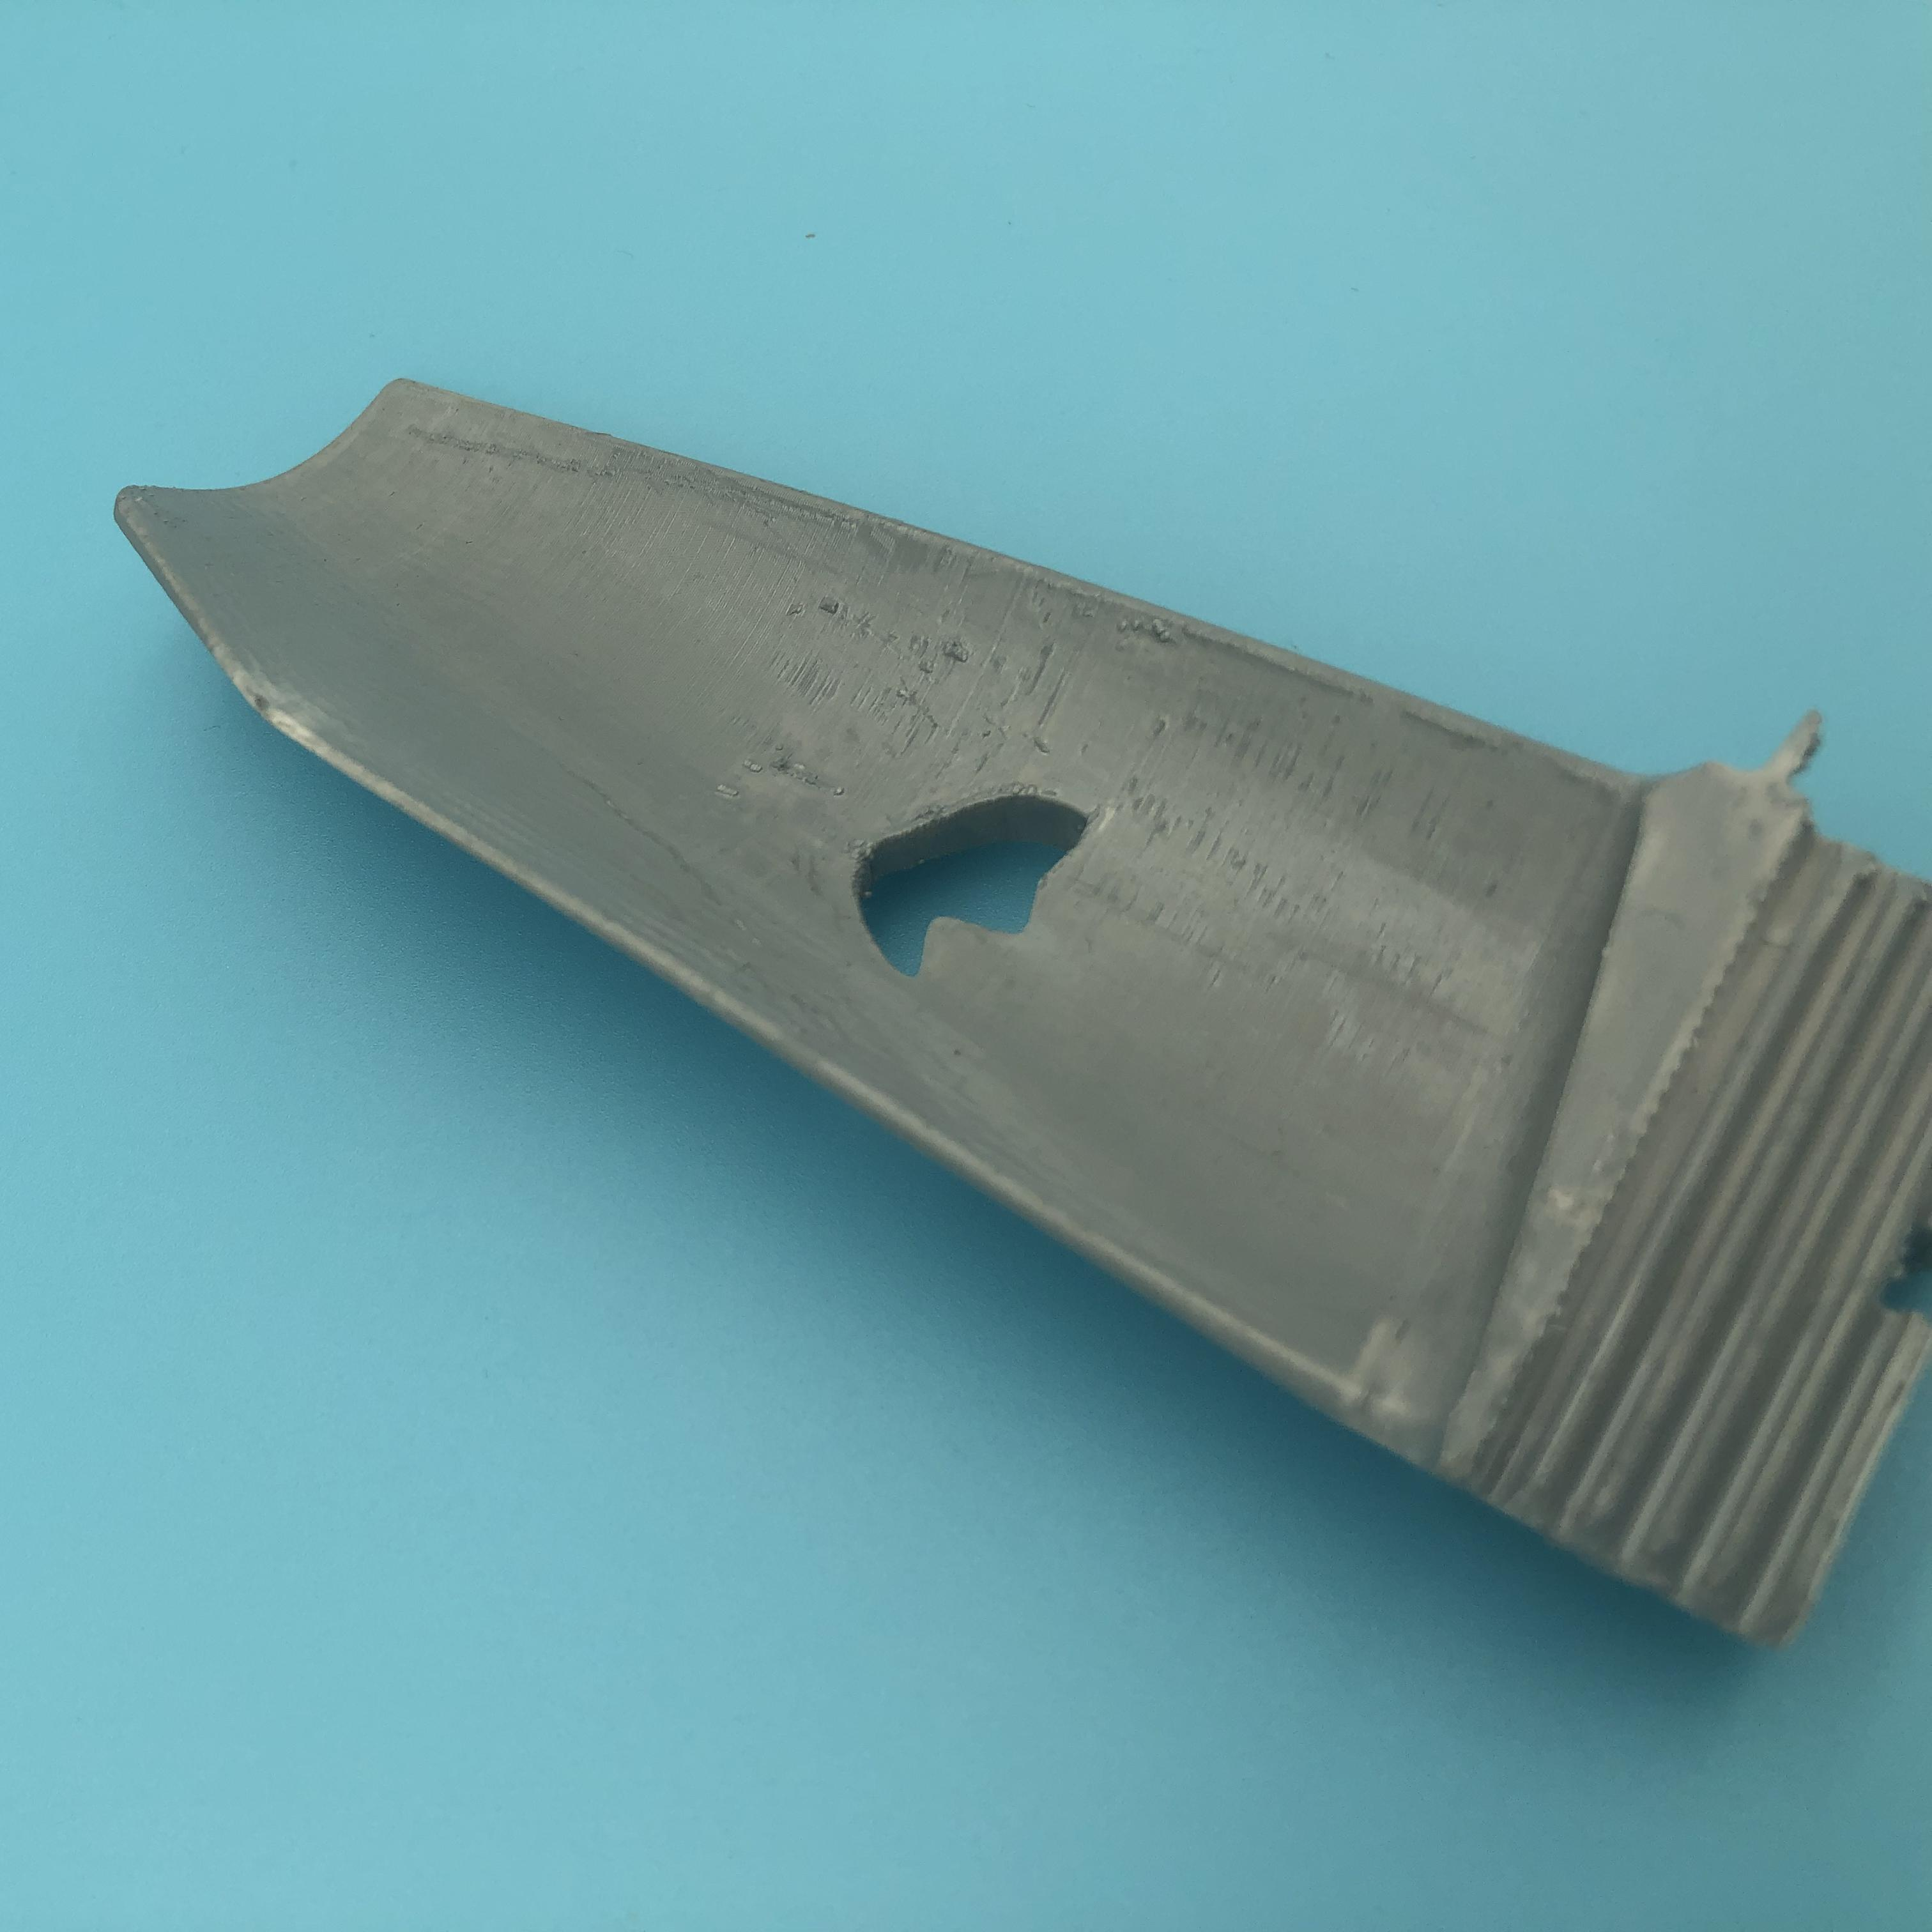breakdown: (835, 778, 1104, 971)
